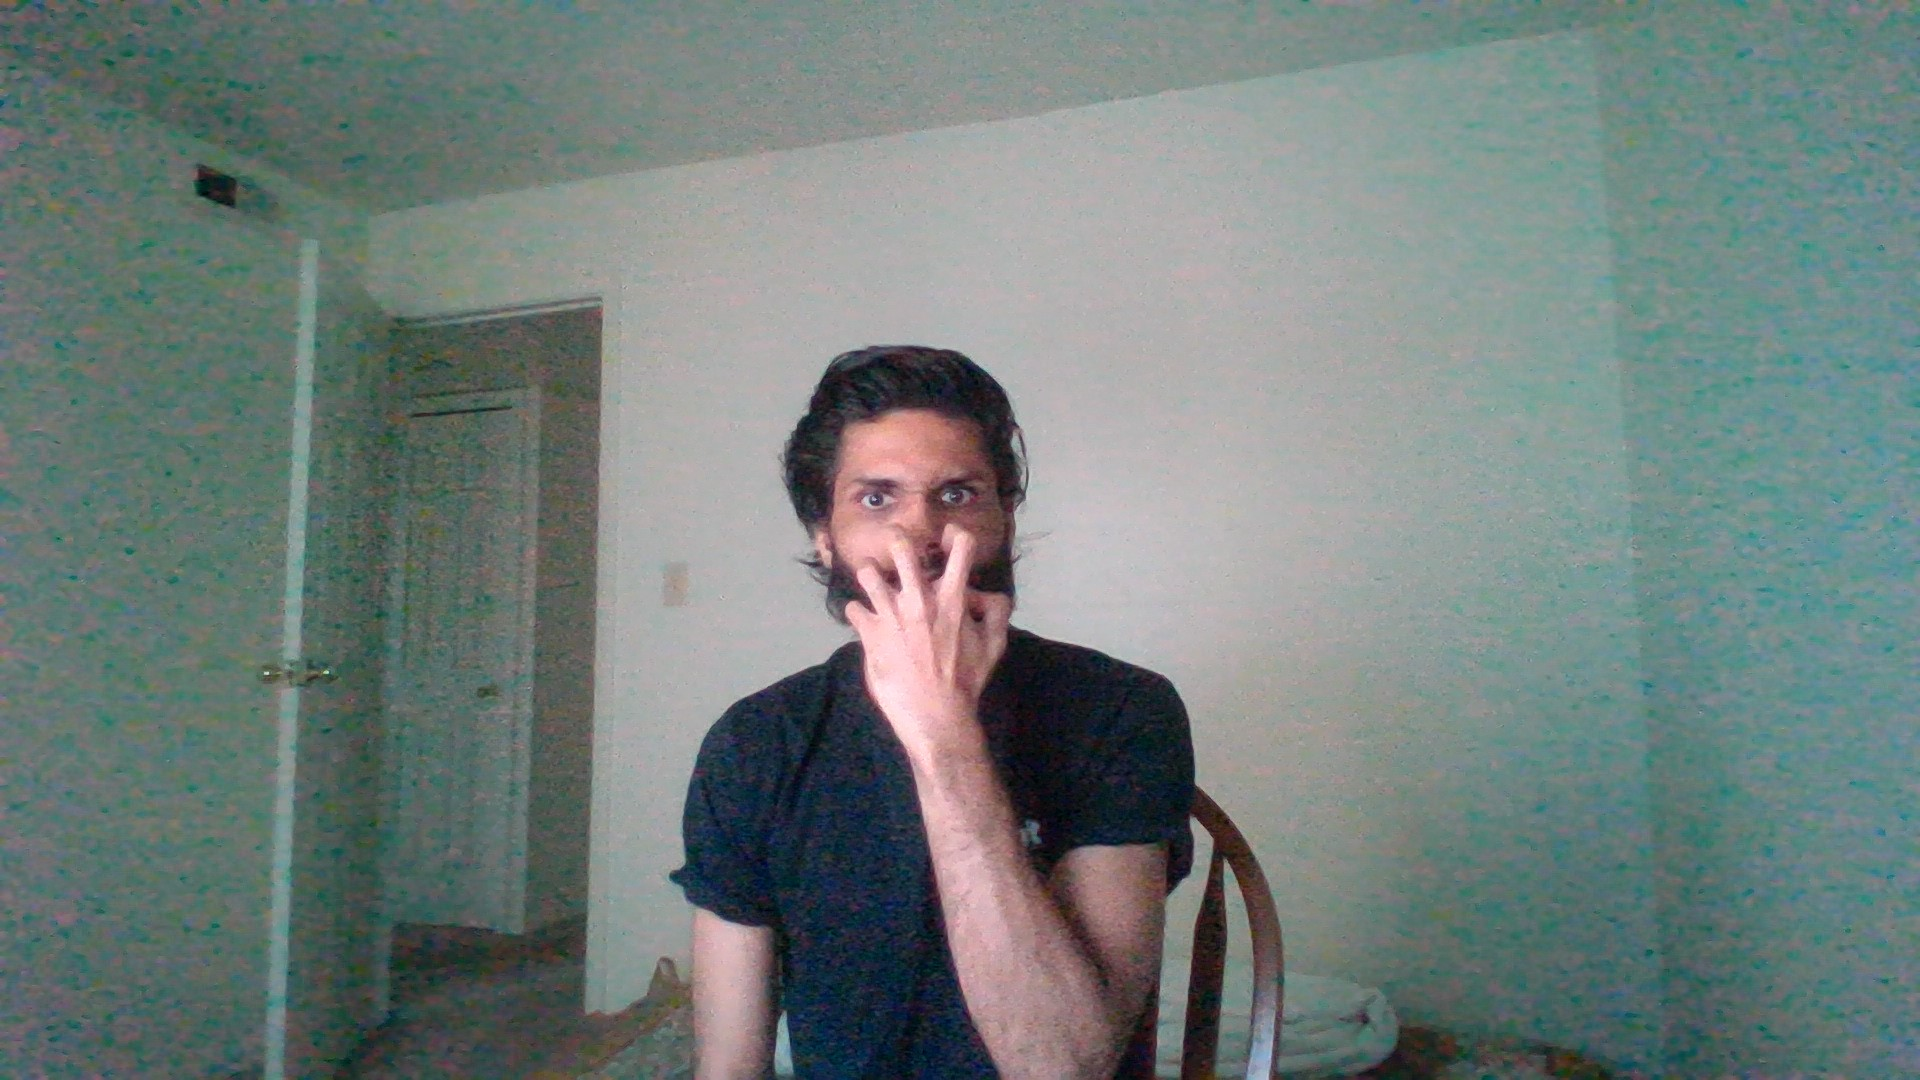Mad: (824, 509, 1034, 752)
